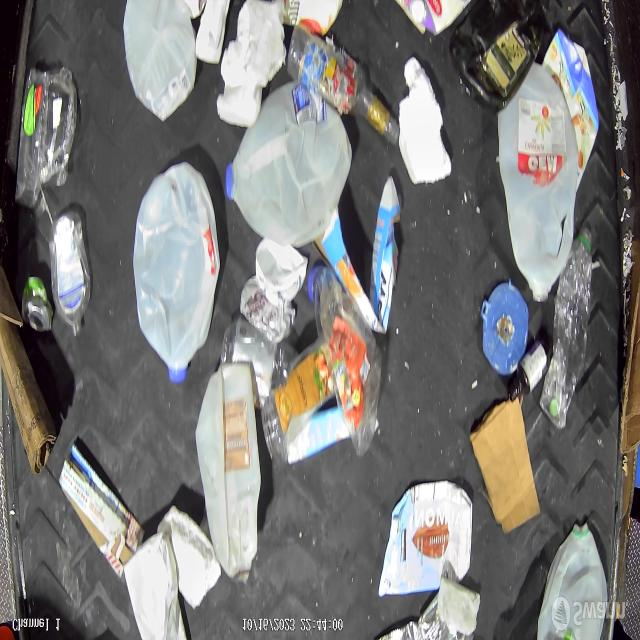can: (21, 273, 53, 334)
milk_jug: (225, 81, 354, 246), (132, 161, 220, 387), (496, 63, 578, 302), (196, 363, 262, 582), (125, 1, 197, 119), (540, 520, 610, 640)
non_white_jug: (448, 0, 548, 115), (378, 479, 474, 597)
plastic_bottle: (307, 264, 383, 458), (290, 29, 399, 145), (548, 228, 596, 425), (51, 208, 92, 338)
